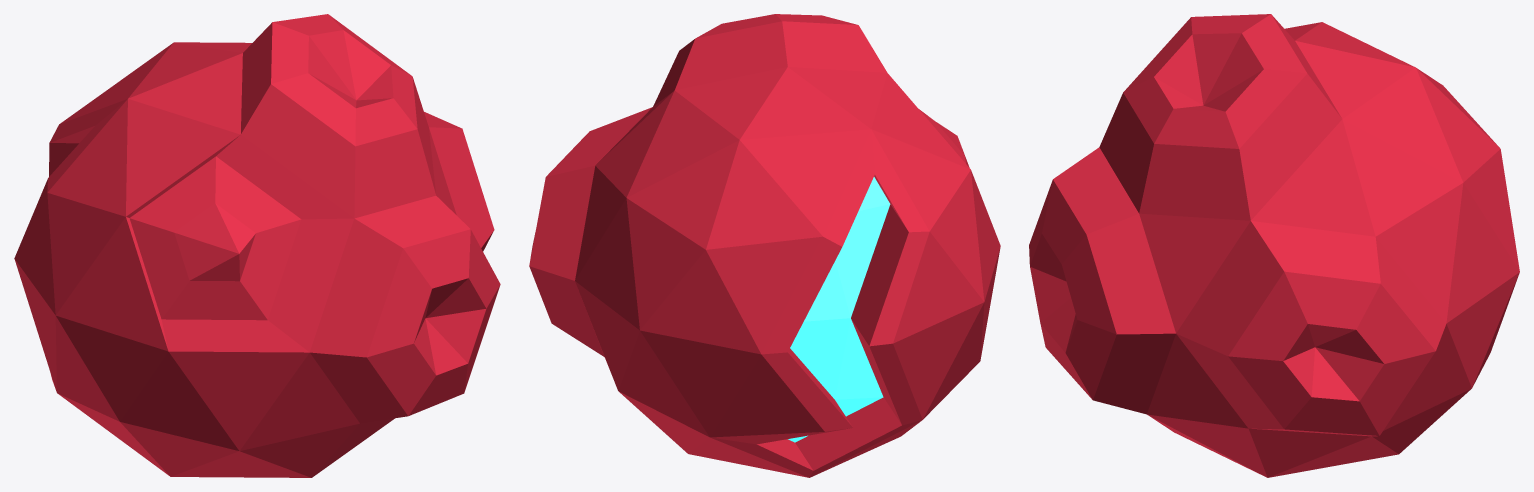
Rendered from planets5.glb.
The picture shows the model from 3 angles, left to right: view 1: azimuth 30°, elevation 25°; view 2: azimuth 150°, elevation 25°; view 3: azimuth 270°, elevation 25°; orthographic projection. The views are drawn at different scales.
Visible parts, largest first — view 1: Icosphere.002; view 2: Icosphere.002; view 3: Icosphere.002.
Part boxes in pixels (x1=…): Icosphere.002: x1=14, y1=14, x2=500, y2=477; Icosphere.002: x1=529, y1=14, x2=1000, y2=477; Icosphere.002: x1=1029, y1=14, x2=1519, y2=477.
Size of the model in its own units: 1.48 by 1.48 by 1.45.
